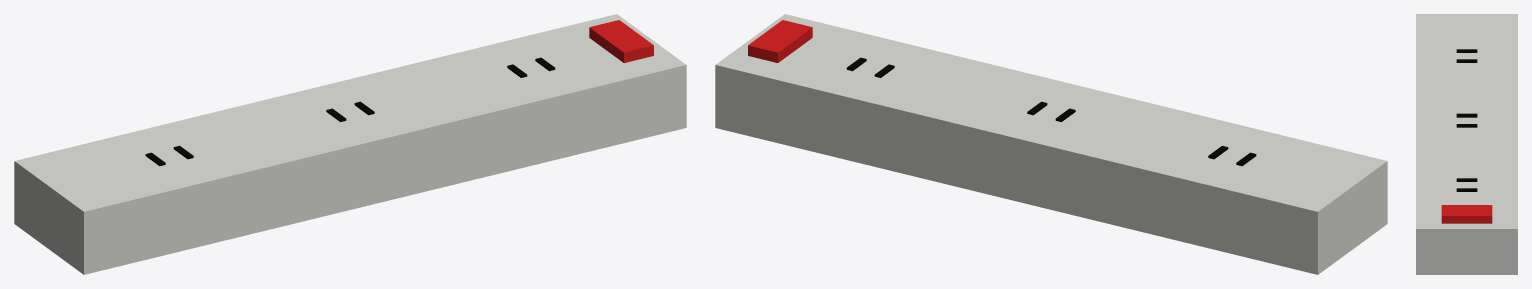
Rendered from PowerStrip.obj.
The picture shows the model from 3 angles, left to right: view 1: azimuth 30°, elevation 25°; view 2: azimuth 150°, elevation 25°; view 3: azimuth 270°, elevation 25°; orthographic projection. The views are drawn at different scales.
Visible parts, largest first — view 1: Strip, Switch; view 2: Strip, Switch; view 3: Strip, Switch, Socket2_SlotL, Socket1_SlotL, Socket1_SlotR, Socket2_SlotR, Socket3_SlotL, Socket3_SlotR.
Part boxes in pixels (box(x1,y1,x2,y2)): Strip: box(14, 14, 686, 274); Switch: box(589, 20, 653, 62); Strip: box(715, 14, 1387, 274); Switch: box(748, 20, 812, 62); Strip: box(1416, 14, 1517, 274); Switch: box(1441, 205, 1492, 223); Socket2_SlotL: box(1456, 113, 1477, 117); Socket1_SlotL: box(1456, 49, 1477, 52); Socket1_SlotR: box(1456, 59, 1477, 62); Socket2_SlotR: box(1456, 124, 1477, 127); Socket3_SlotL: box(1456, 178, 1477, 181); Socket3_SlotR: box(1456, 188, 1477, 191).
Size of the model in its own units: 0.3 by 0.035 by 0.06.
